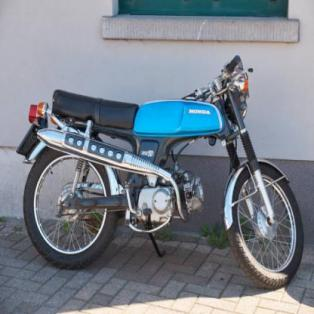Motocicleta: (19, 51, 305, 295)
